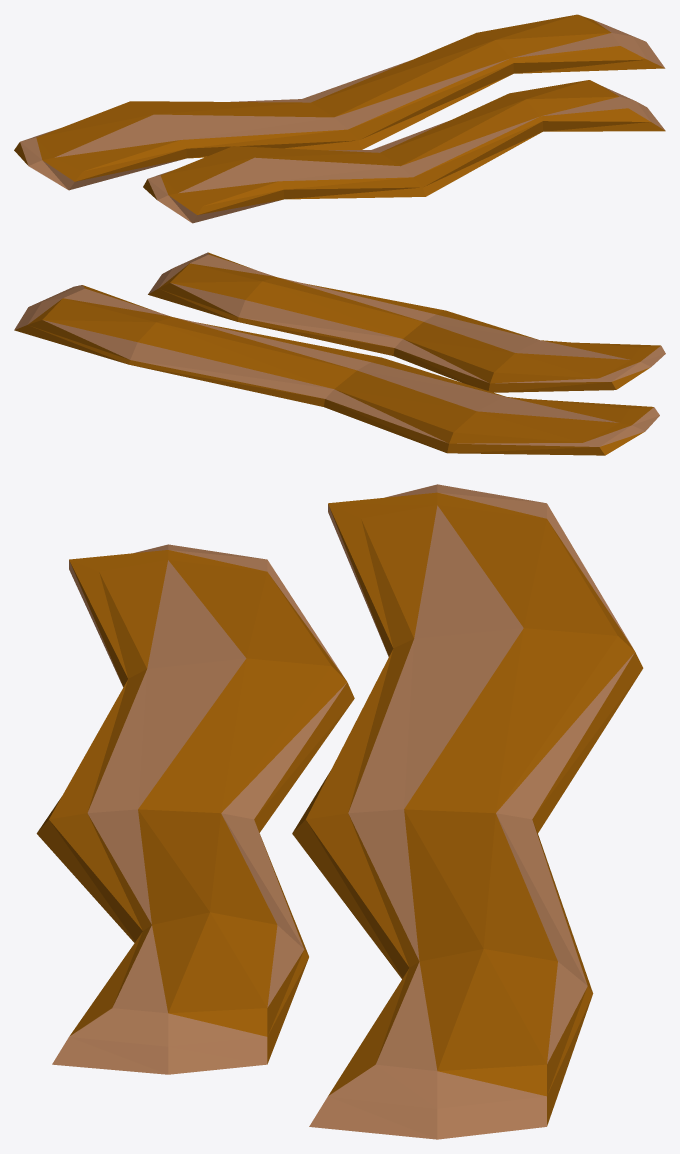
File: ham.fbx
The picture shows the model from 3 angles, top to bottom: view 1: azimuth 30°, elevation 25°; view 2: azimuth 150°, elevation 25°; view 3: azimuth 270°, elevation 25°; orthographic projection. The views are drawn at different scales.
Visible parts, largest first — view 1: pCube9; view 2: pCube9; view 3: pCube9.
Part boxes in pixels (x1=…): pCube9: x1=14, y1=14, x2=665, y2=223; pCube9: x1=14, y1=252, x2=665, y2=455; pCube9: x1=36, y1=484, x2=643, y2=1139.
Size of the model in its own units: 0.0718 by 0.0036 by 0.0306.
